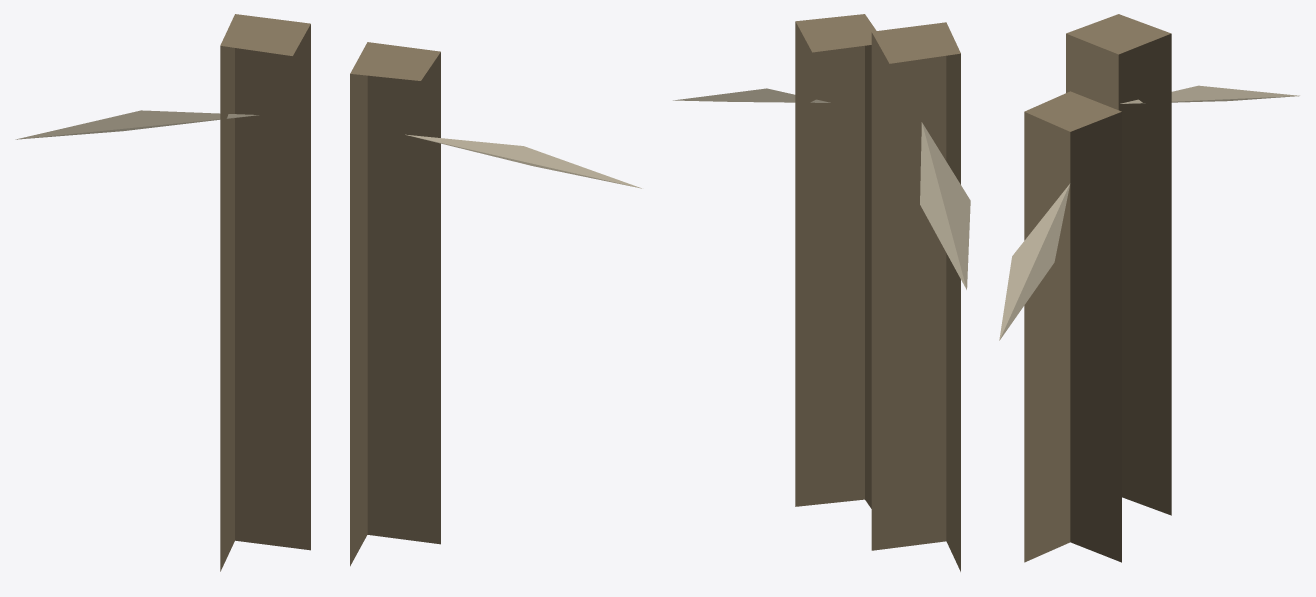
File: shui.luwei@withered__summer.glb
3 views of the same model, side by side, from view 1: azimuth 30°, elevation 25°; view 2: azimuth 150°, elevation 25°; view 3: azimuth 270°, elevation 25° (orthographic). The views are drawn at different scales.
Parts seen in each view (by area): view 1: shui.luwei@withered__summer; view 2: shui.luwei@withered__summer; view 3: shui.luwei@withered__summer.
Part boxes in pixels (bbox=[...]): shui.luwei@withered__summer: bbox=[15, 14, 641, 571]; shui.luwei@withered__summer: bbox=[673, 14, 970, 571]; shui.luwei@withered__summer: bbox=[999, 14, 1299, 562].
Size of the model in its own units: 0.7831 by 0.8487 by 0.4828.
